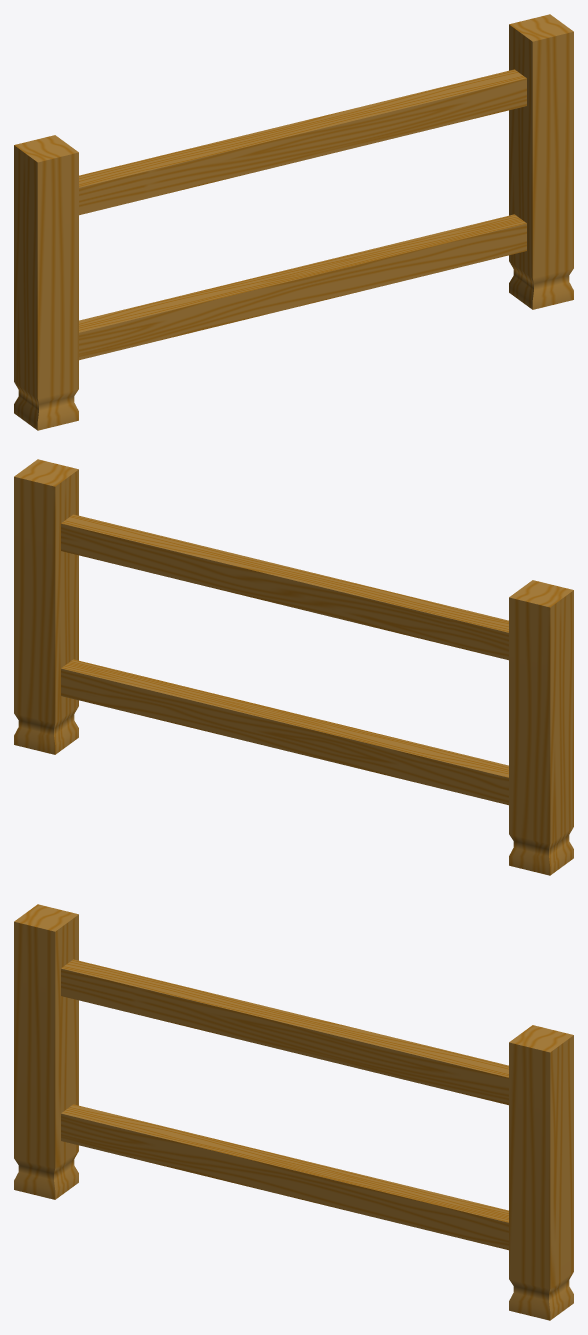
File: wall_normal_fbx.fbx
3 views of the same model, one above another, from view 1: azimuth 30°, elevation 25°; view 2: azimuth 150°, elevation 25°; view 3: azimuth 330°, elevation 25° (orthographic).
Parts seen in each view (by area): view 1: pCube6; view 2: pCube6; view 3: pCube6.
Part boxes in pixels (x1,y1,x2,y2): pCube6: (14,14,573,430); pCube6: (14,459,573,875); pCube6: (14,904,573,1320).
Bounding box in the file's own units: 13 × 6.21 × 1.
Materials: 1 (1 with a texture image).
